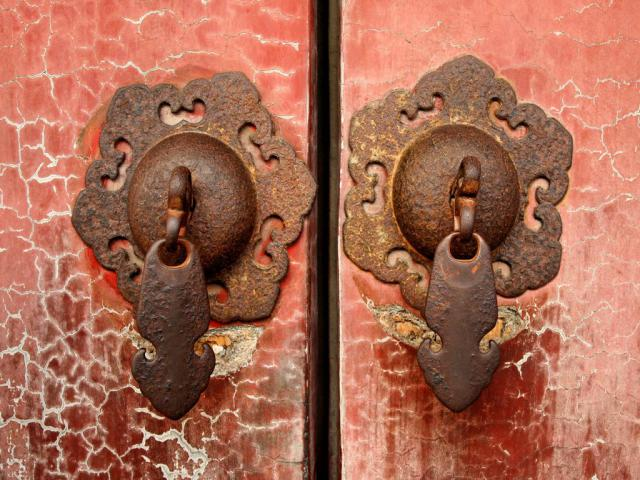Door-handle: (70, 69, 320, 420), (340, 53, 574, 415)
